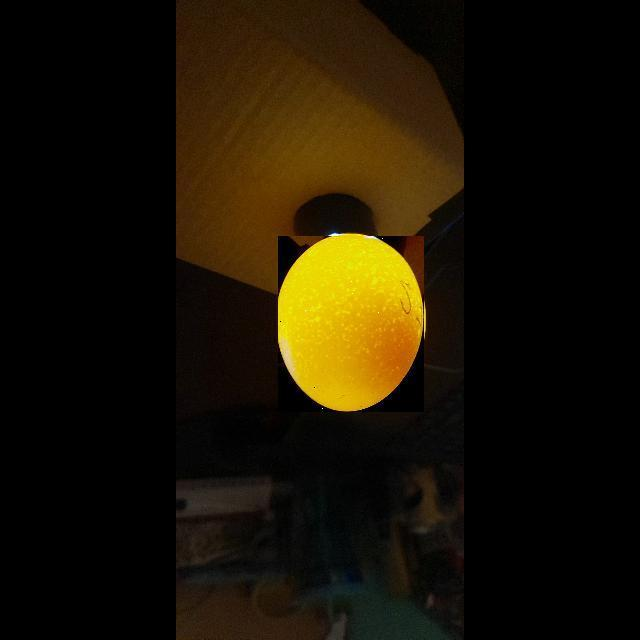A - Good: (276, 234, 426, 416)
